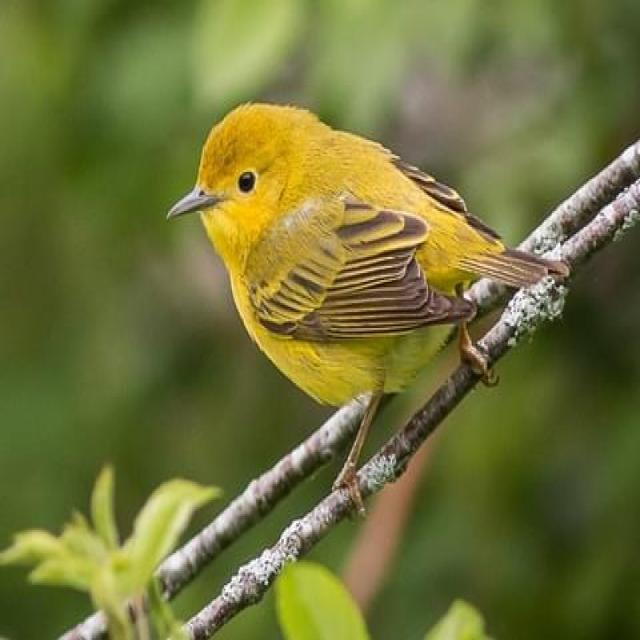other: (142, 56, 556, 457)
